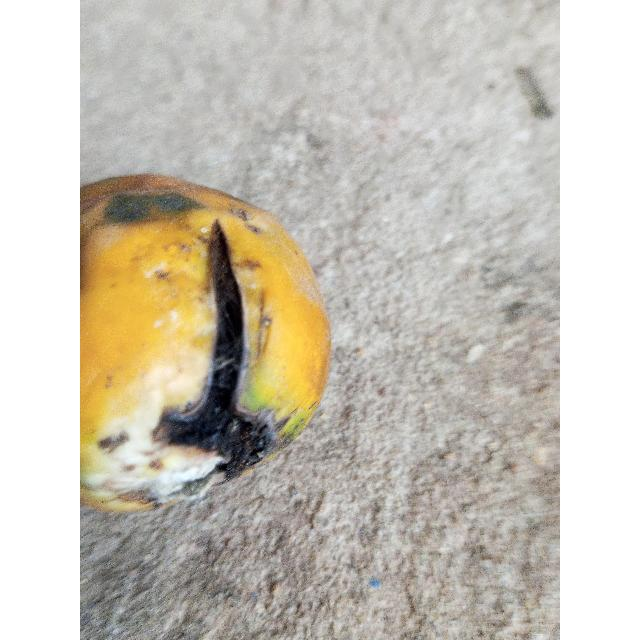damaged: (80, 174, 331, 516)
